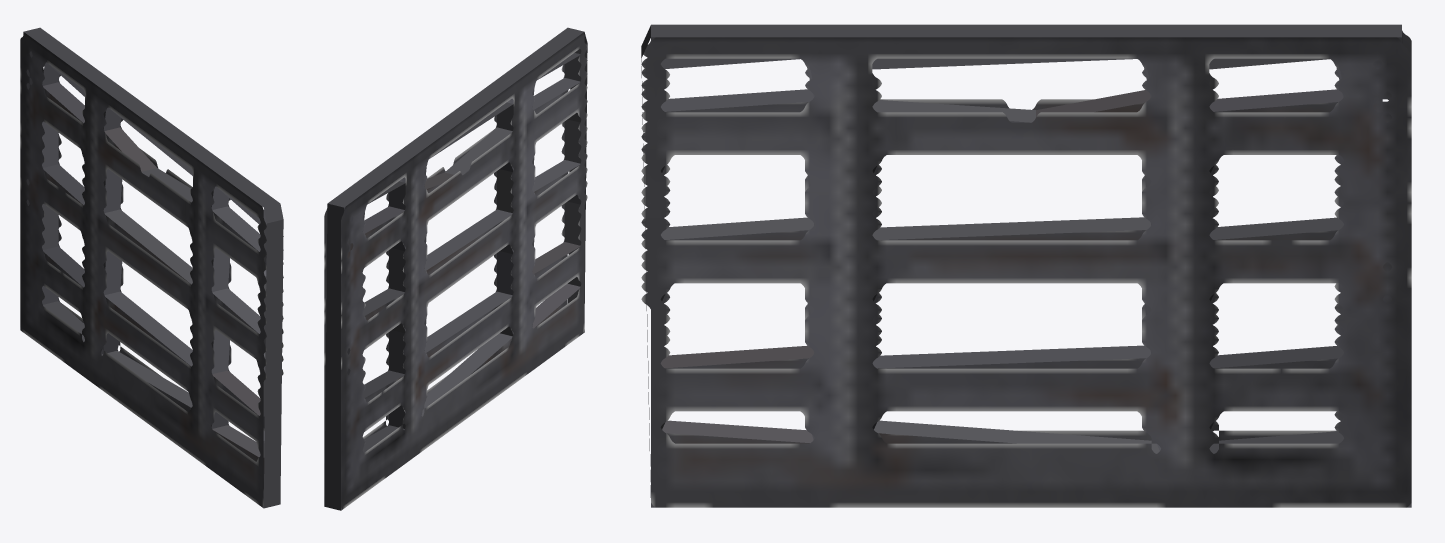
File: pz_native_location_community_police_01_40_frame.obj
The picture shows the model from 3 angles, left to right: view 1: azimuth 30°, elevation 25°; view 2: azimuth 150°, elevation 25°; view 3: azimuth 270°, elevation 25°; orthographic projection. The views are drawn at different scales.
Parts seen in each view (by area): view 1: pz_native_location_community_police_01_40_frame; view 2: pz_native_location_community_police_01_40_frame; view 3: pz_native_location_community_police_01_40_frame.
Part boxes in pixels (left/top/right/bottom): pz_native_location_community_police_01_40_frame: left=20, top=27, right=283, bottom=508; pz_native_location_community_police_01_40_frame: left=324, top=27, right=587, bottom=510; pz_native_location_community_police_01_40_frame: left=641, top=24, right=1411, bottom=507.
Size of the model in its own units: 0.04 by 0.7344 by 1.07.
Materials: 1 (1 with a texture image).
